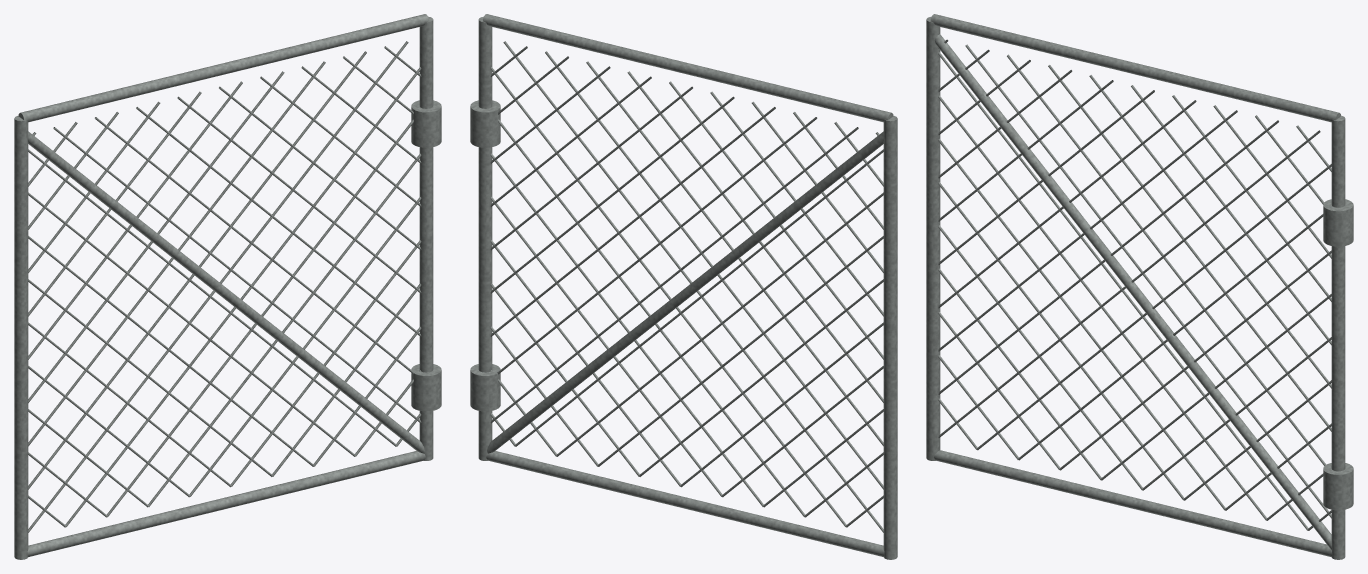
Rendered from SM_Substation_Gate_R.fbx.
The picture shows the model from 3 angles, left to right: view 1: azimuth 30°, elevation 25°; view 2: azimuth 150°, elevation 25°; view 3: azimuth 330°, elevation 25°; orthographic projection.
Parts seen in each view (by area): view 1: SM_Substation_Gate_R; view 2: SM_Substation_Gate_R; view 3: SM_Substation_Gate_R.
Part boxes in pixels (<box>): SM_Substation_Gate_R: <box>14,14,441,559</box>; SM_Substation_Gate_R: <box>470,14,897,559</box>; SM_Substation_Gate_R: <box>926,14,1353,559</box>.
Size of the model in its own units: 2.26 by 0.14 by 2.26.
